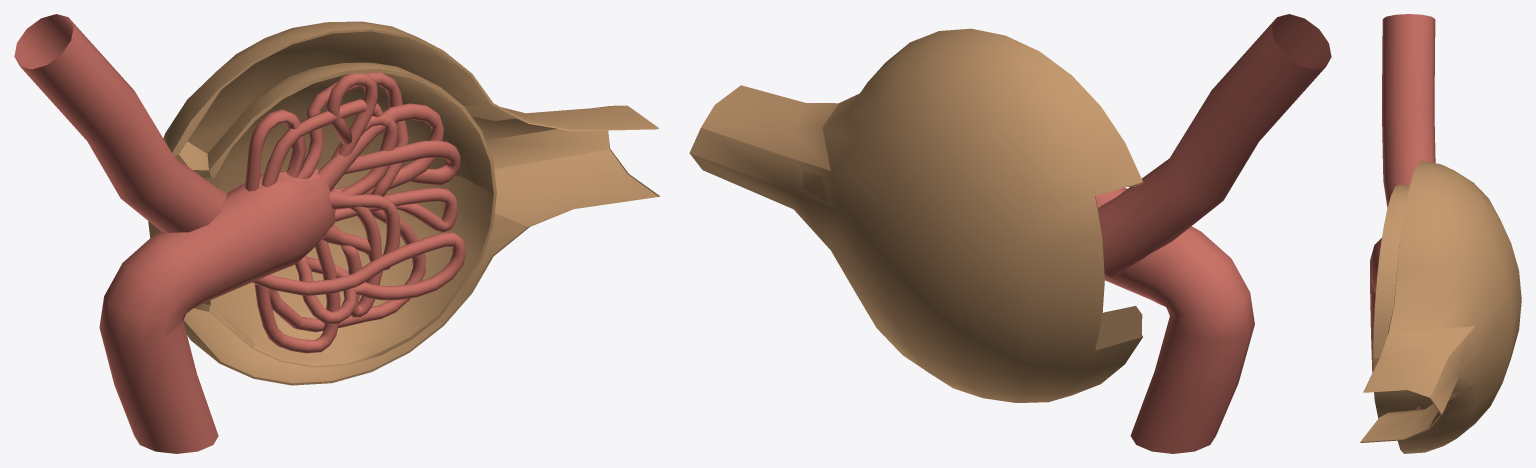
Rendered from capillaries.fbx.
The picture shows the model from 3 angles, left to right: view 1: azimuth 30°, elevation 25°; view 2: azimuth 150°, elevation 25°; view 3: azimuth 270°, elevation 25°; orthographic projection. The views are drawn at different scales.
Visible parts, largest first — view 1: kidny:polySurface20, kidny:polySurface2, kidny:polySurface1, kidny:polySurface11, kidny:polySurface8, kidny:polySurface12, kidny:polySurface9, kidny:polySurface14, kidny:polySurface6, kidny:polySurface17, kidny:polySurface10, kidny:polySurface7 (+5 smaller); view 2: kidny:polySurface20, kidny:polySurface1, kidny:polySurface2; view 3: kidny:polySurface20, kidny:polySurface1, kidny:polySurface2.
Part boxes in pixels (box(x1,y1,x2,y2)): kidny:polySurface20: box(148, 21, 659, 385); kidny:polySurface2: box(99, 169, 336, 453); kidny:polySurface1: box(14, 14, 226, 233); kidny:polySurface11: box(252, 232, 466, 300); kidny:polySurface8: box(317, 103, 444, 194); kidny:polySurface12: box(254, 235, 340, 353); kidny:polySurface9: box(344, 140, 460, 185); kidny:polySurface14: box(269, 210, 425, 332); kidny:polySurface6: box(297, 72, 408, 196); kidny:polySurface17: box(329, 190, 400, 270); kidny:polySurface10: box(335, 187, 457, 232); kidny:polySurface7: box(326, 73, 377, 156); kidny:polySurface20: box(689, 28, 1142, 402); kidny:polySurface1: box(1098, 14, 1331, 277); kidny:polySurface2: box(1096, 187, 1254, 453); kidny:polySurface20: box(1360, 160, 1521, 453); kidny:polySurface1: box(1382, 14, 1435, 207); kidny:polySurface2: box(1370, 238, 1381, 372).
Bounding box in the file's own units: 1778 × 1234 × 539.
